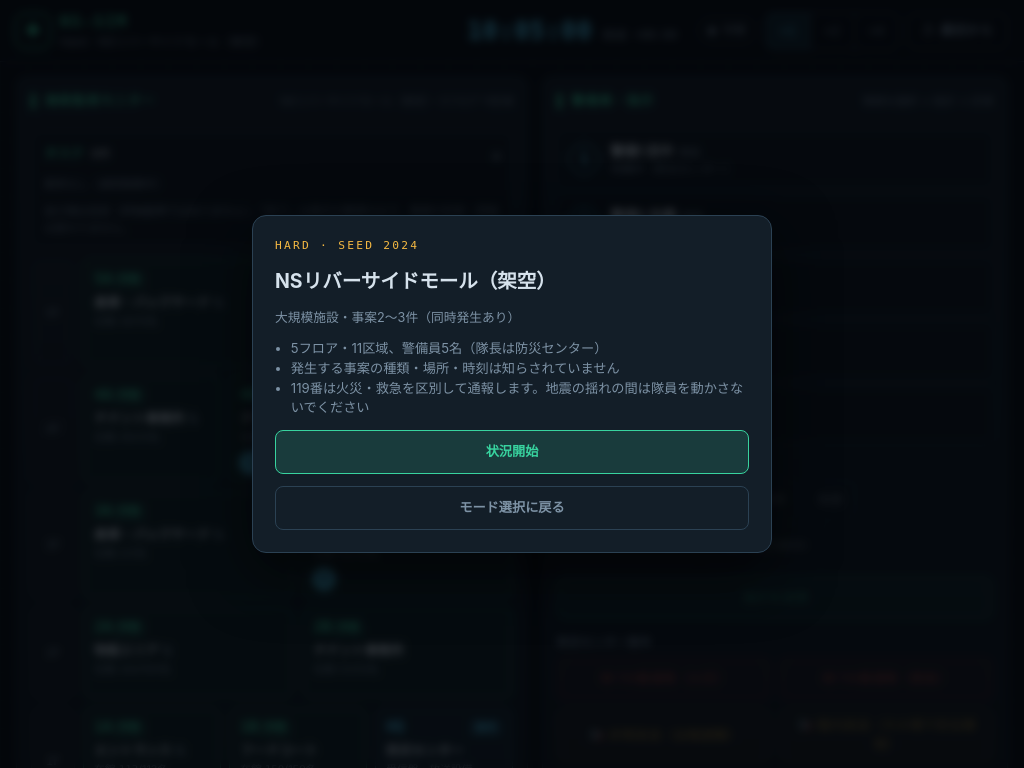
Test: v0.4 マップ直接指示 › Esc・背景のタップでシートを閉じられ、時間が進んでも開いたまま操作できる
The image size is (1024, 768).
Click the button "状況開始": (512, 452) left=275, top=430, right=749, bottom=474
(page scrolled)
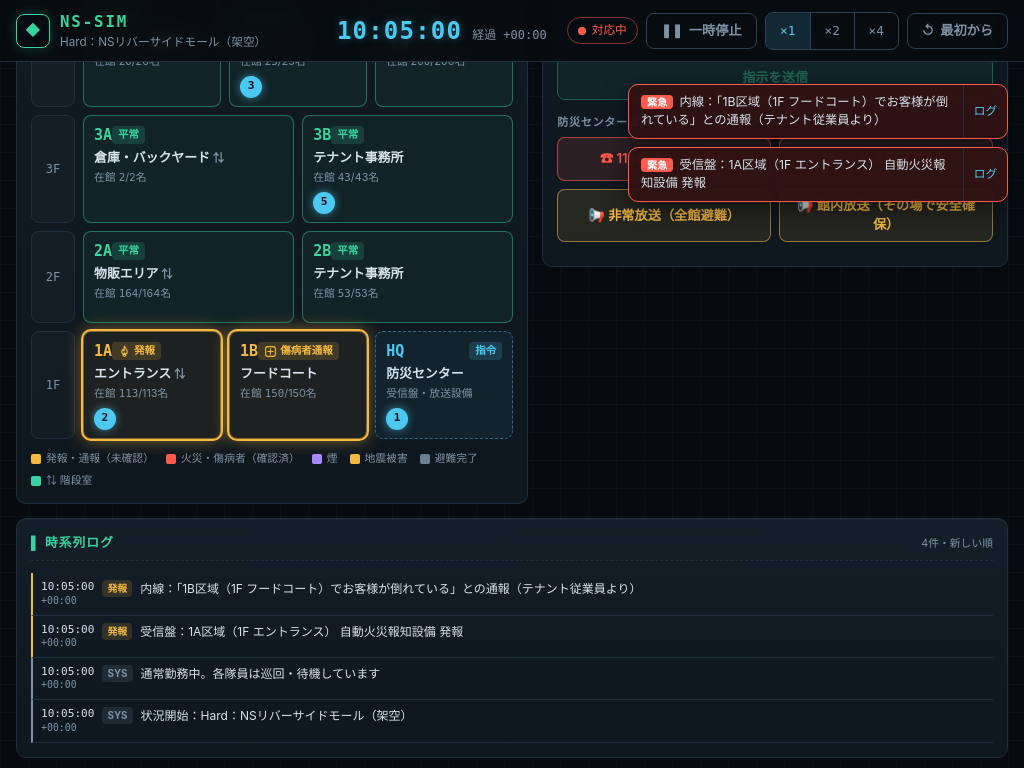
Click the button "1A 発報 エントランス ⇅ 在館 113/113名 2": (152, 385) left=83, top=331, right=221, bottom=439
Wait 3000 ms
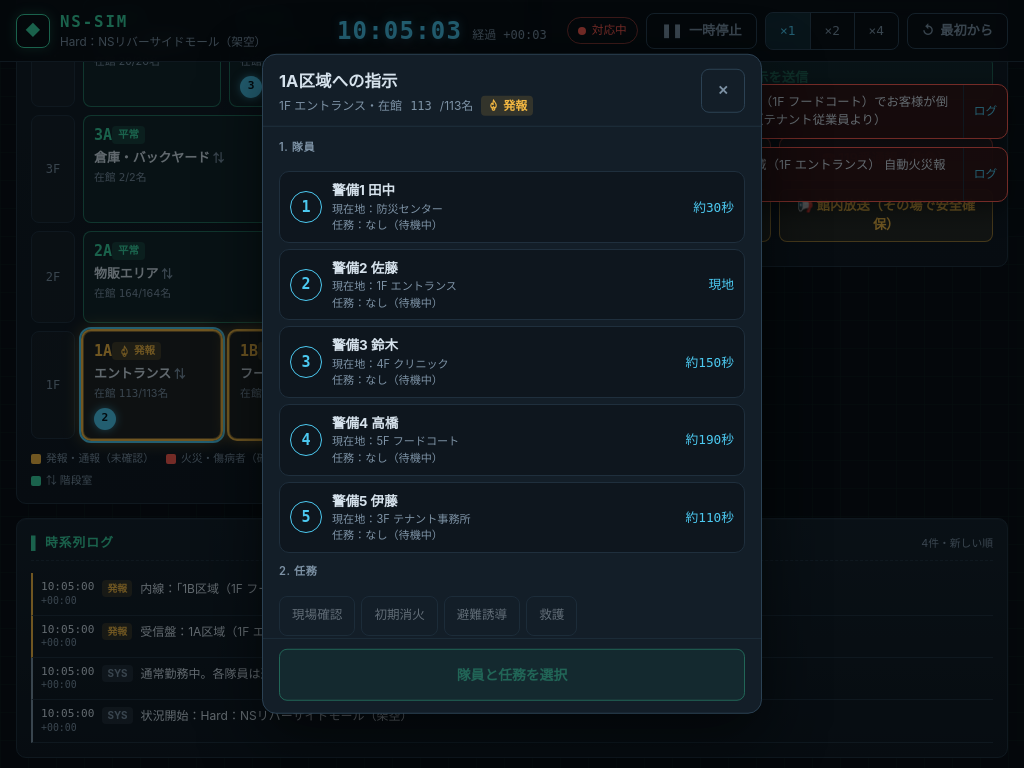
Press Escape
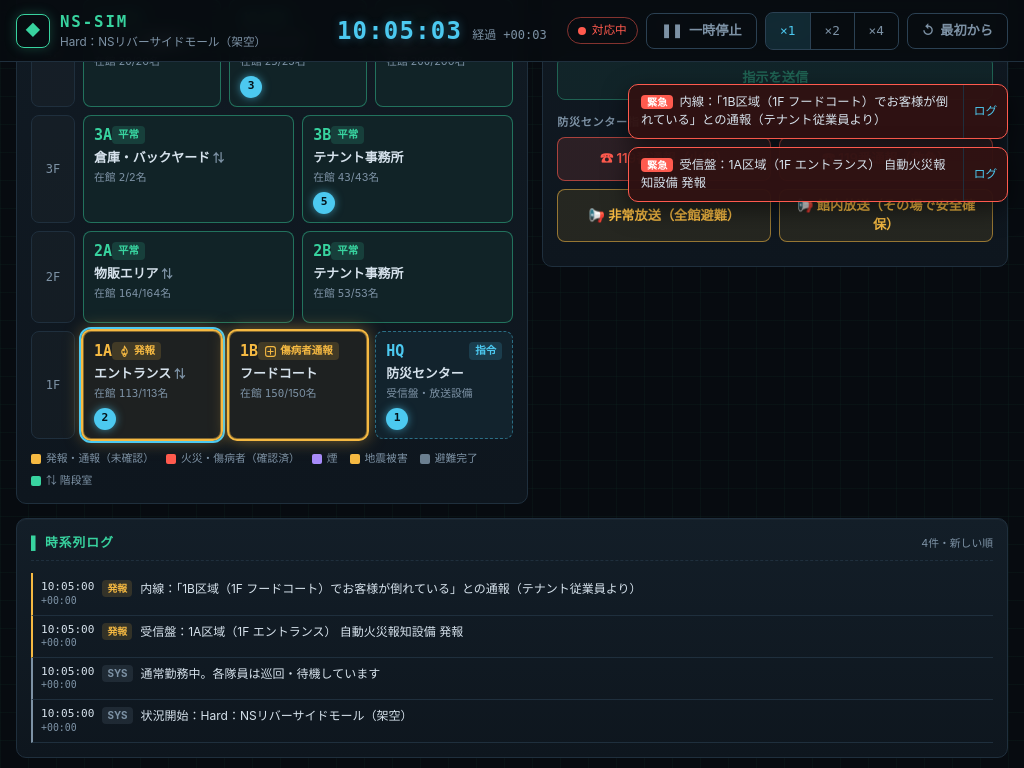
Now the heading "区域への指示" is gone
Click the button "1A 発報 エントランス ⇅ 在館 113/113名 2": (152, 385) left=83, top=331, right=221, bottom=439
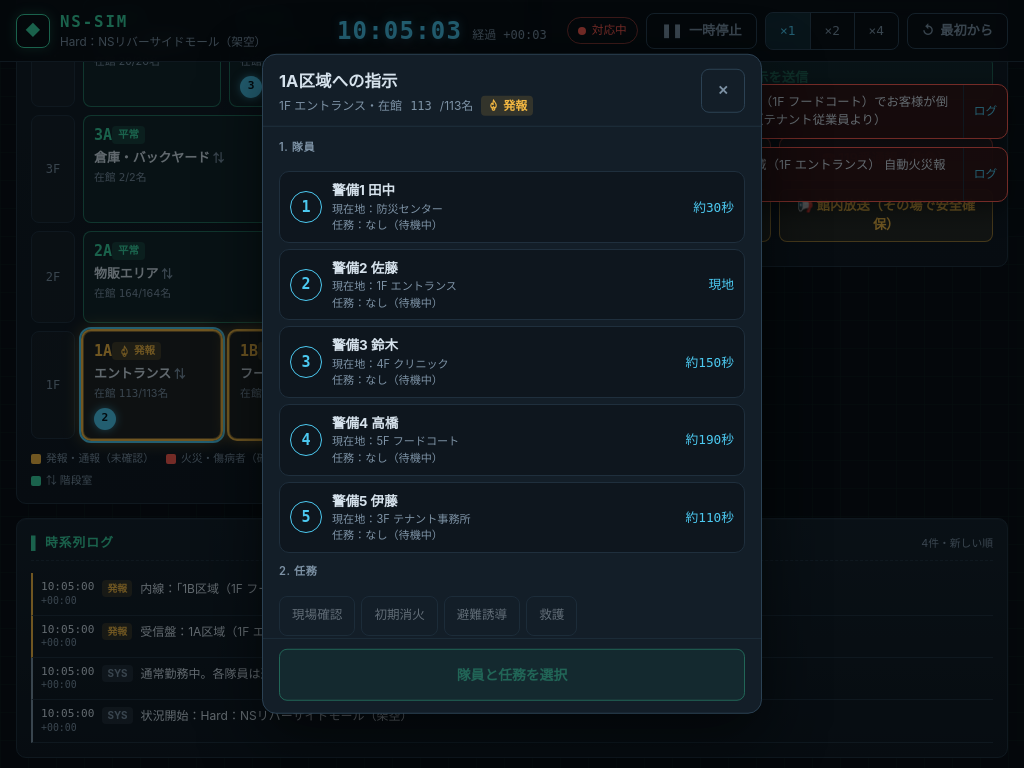
Click the element with class "sheet-backdrop": (61, 384) left=0, top=0, right=1023, bottom=767
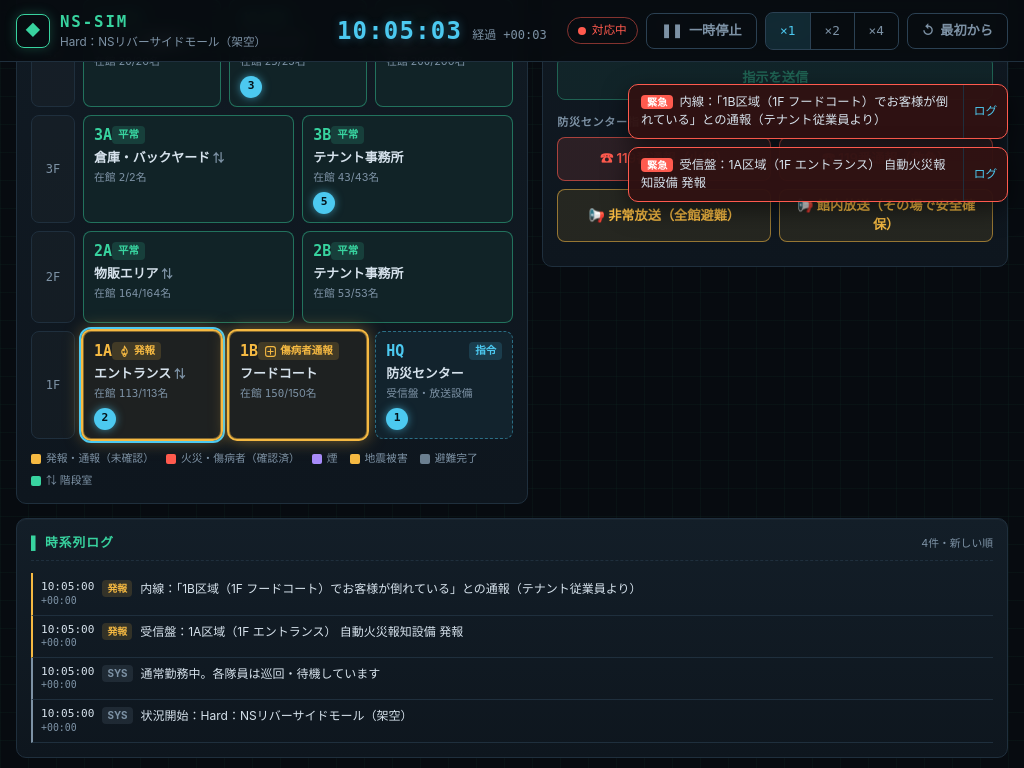
Now the heading "区域への指示" is gone
